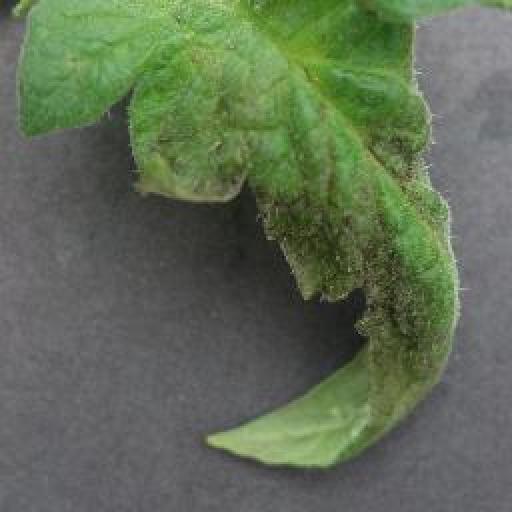disease_tomato: (20, 0, 458, 468)
